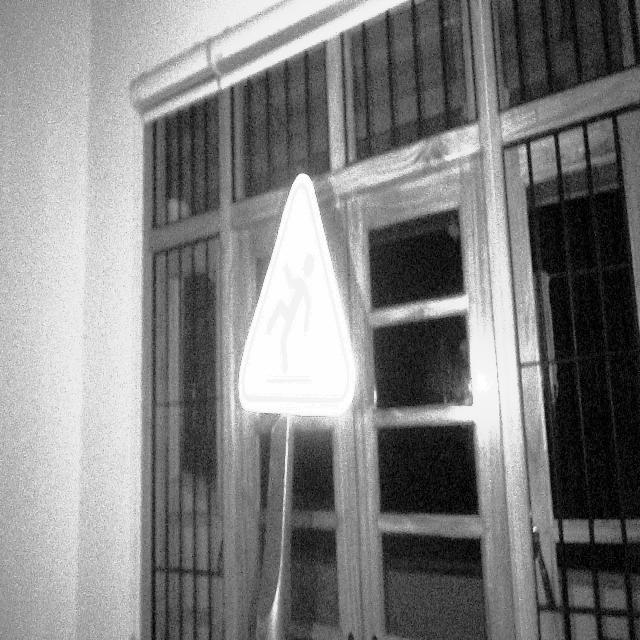Sign: (237, 171, 357, 419)
